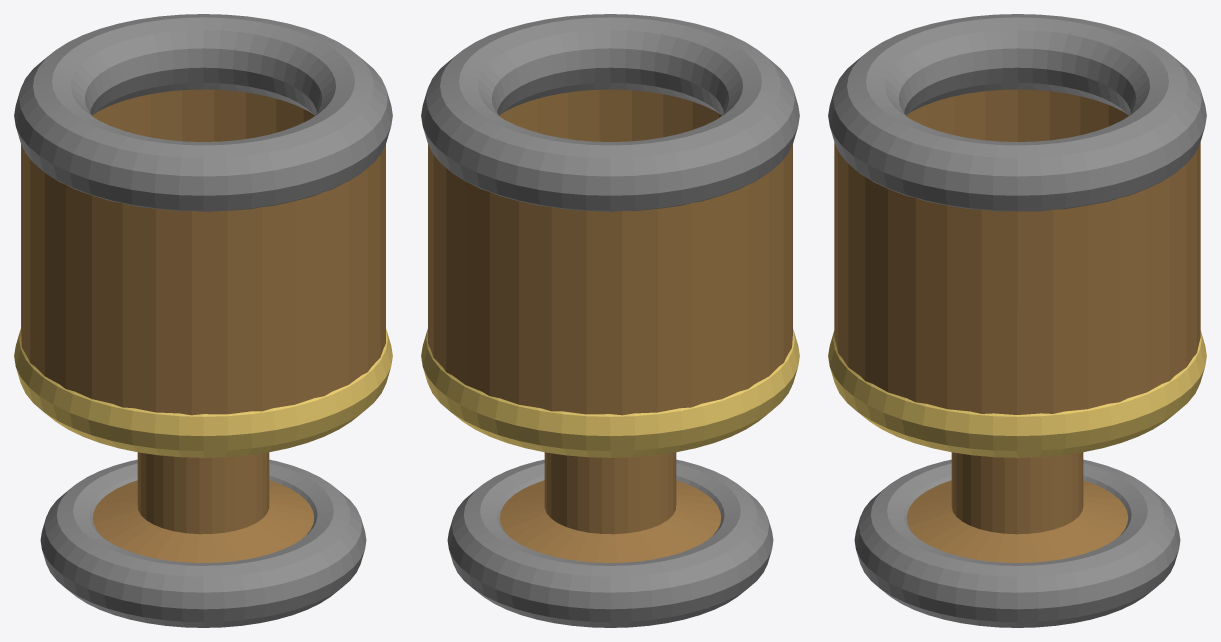
Rendered from Glass.fbx.
3 views of the same model, side by side, from view 1: azimuth 30°, elevation 25°; view 2: azimuth 150°, elevation 25°; view 3: azimuth 270°, elevation 25° (orthographic).
Parts seen in each view (by area): view 1: Torus.014; view 2: Torus.014; view 3: Torus.014.
Part boxes in pixels (x1=…): Torus.014: x1=14, y1=14, x2=392, y2=627; Torus.014: x1=421, y1=14, x2=799, y2=627; Torus.014: x1=828, y1=14, x2=1206, y2=627.
Bounding box in the file's own units: 20.33 × 28.92 × 20.33.
